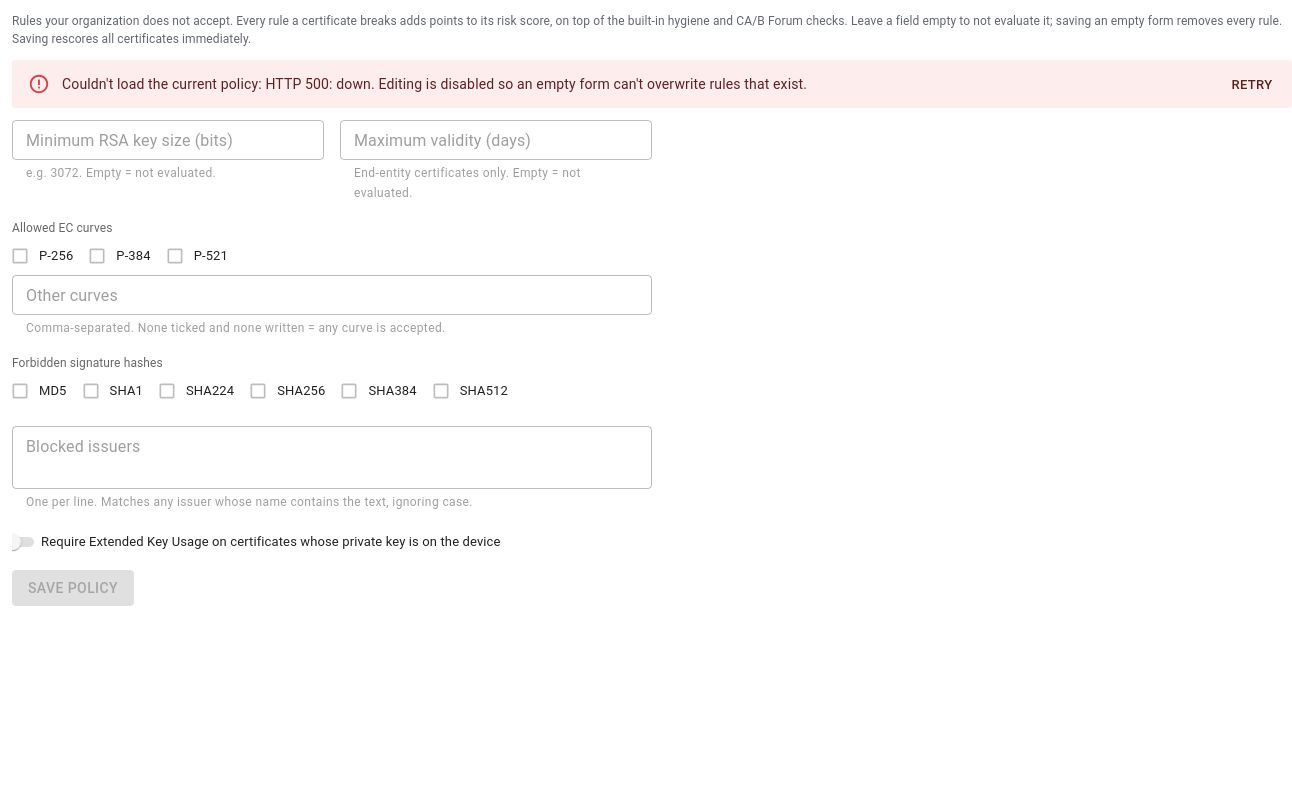
CdpCryptoPolicyEditor › ⭐ si la lectura falla, el formulario queda bloqueado (vacío ≠ no pude leer)
Expected: the text "Couldn't load the current policy: HTTP 500: down" is shown, 62,76 -> 807,92
Expected: the button "Save policy" is disabled, 12,570 -> 134,606
Click the button "Retry".
click(1252, 85)  # box 1220,70 -> 1284,101
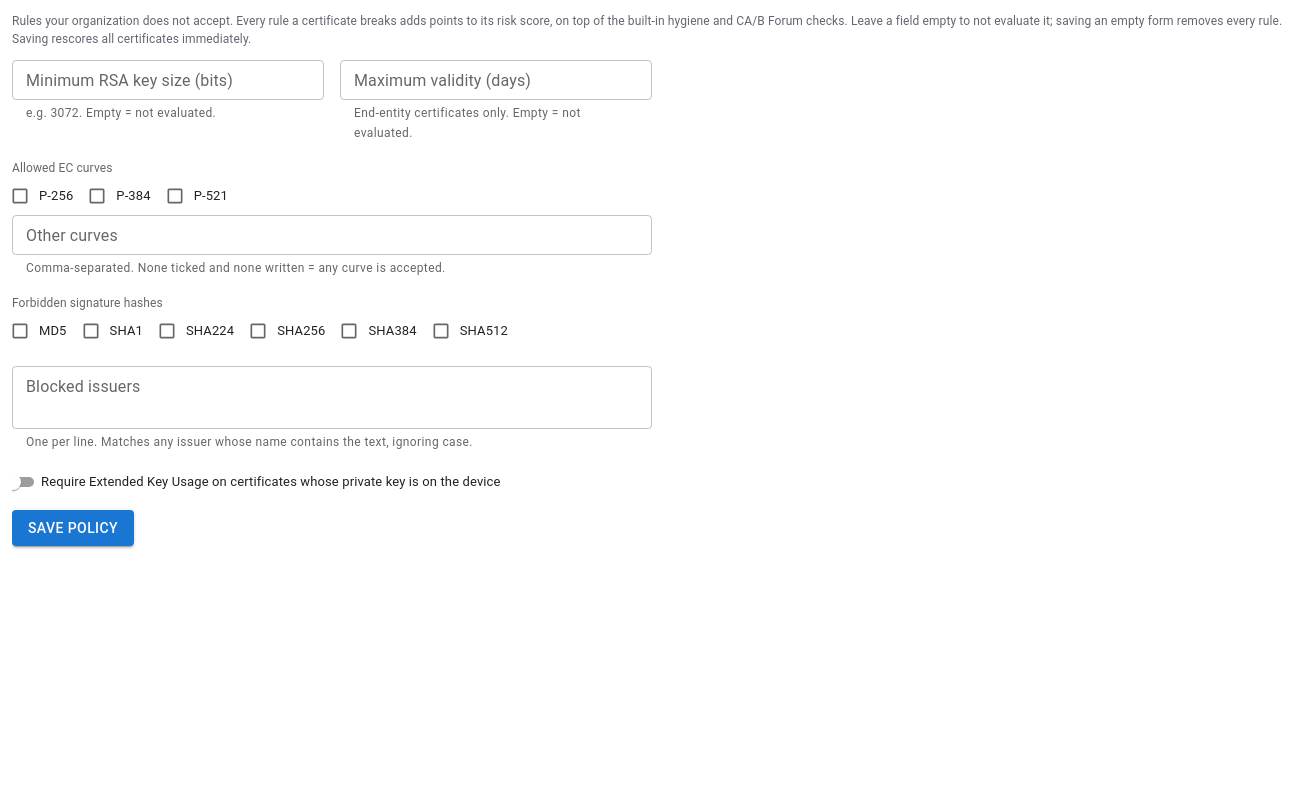
Expected: the button "Save policy" is enabled, 12,510 -> 134,546
